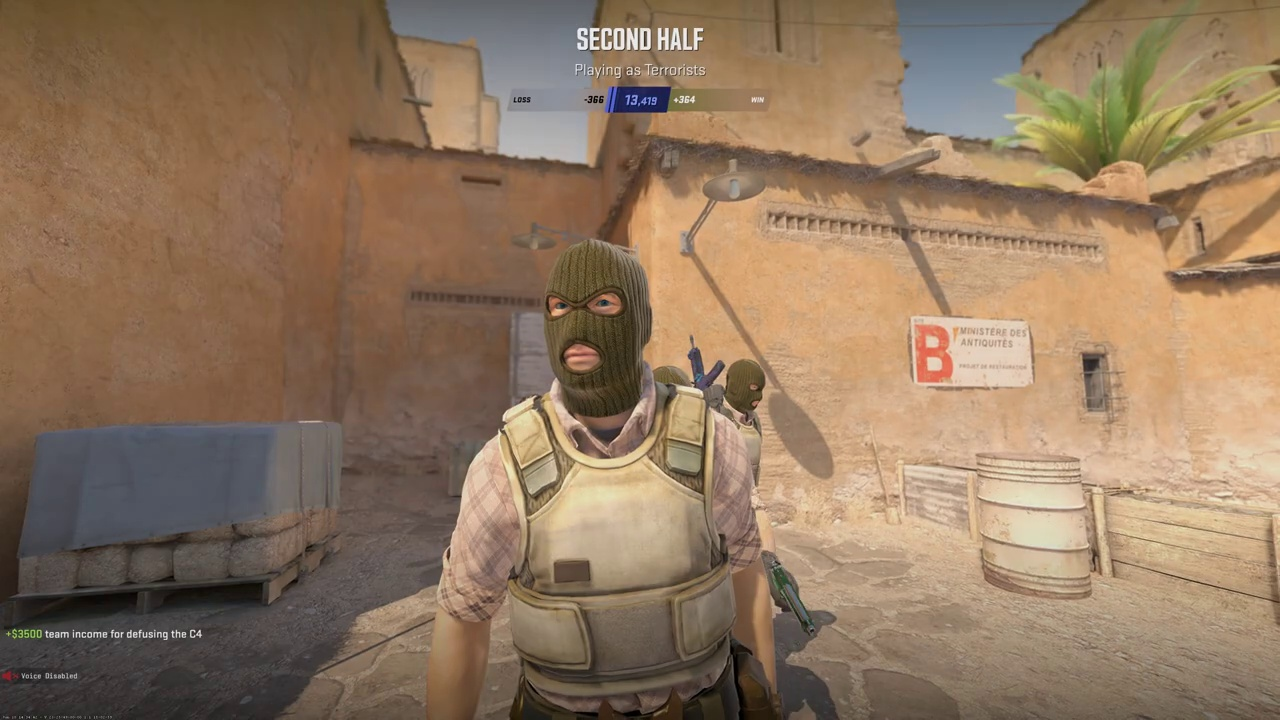Terrorist: (429, 238, 749, 720), (723, 360, 766, 486)
